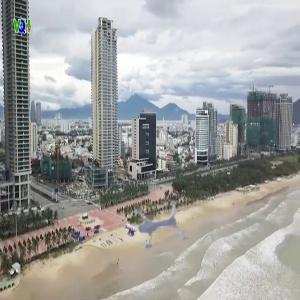drone: (118, 192, 190, 264)
